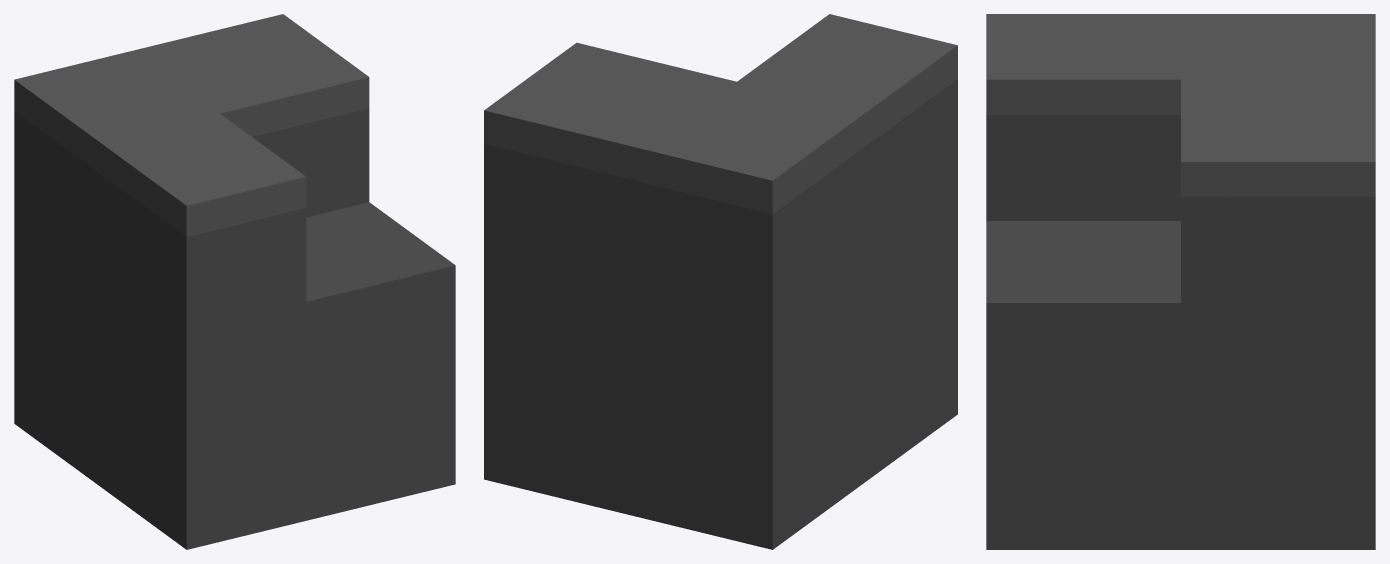
The model's file is rock_chip.fbx.
3 renders of one model, left to right at view 1: azimuth 30°, elevation 25°; view 2: azimuth 150°, elevation 25°; view 3: azimuth 270°, elevation 25°, orthographic. The views are drawn at different scales.
Visible parts, largest first — view 1: rick_chip; view 2: rick_chip; view 3: rick_chip.
Part boxes in pixels (x1=…): rick_chip: x1=14, y1=14, x2=455, y2=549; rick_chip: x1=484, y1=14, x2=957, y2=549; rick_chip: x1=986, y1=14, x2=1375, y2=549.
Bounding box in the file's own units: 9 × 11 × 10.
1 material, 1 textured.
